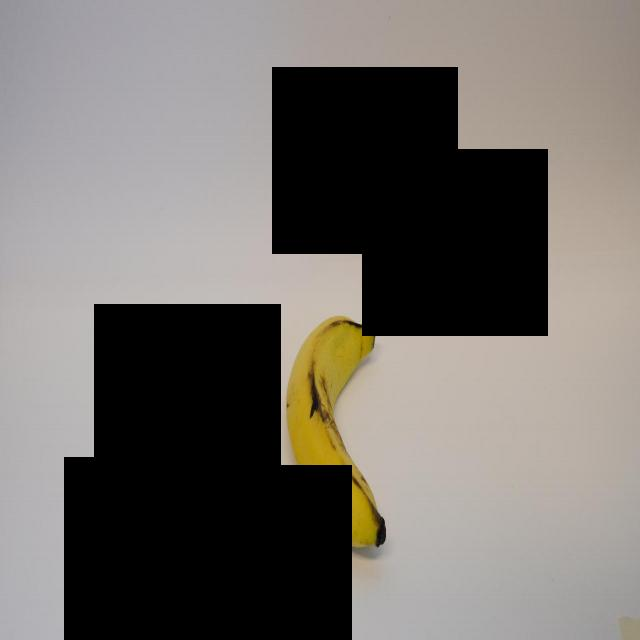banana: (284, 306, 392, 558)
